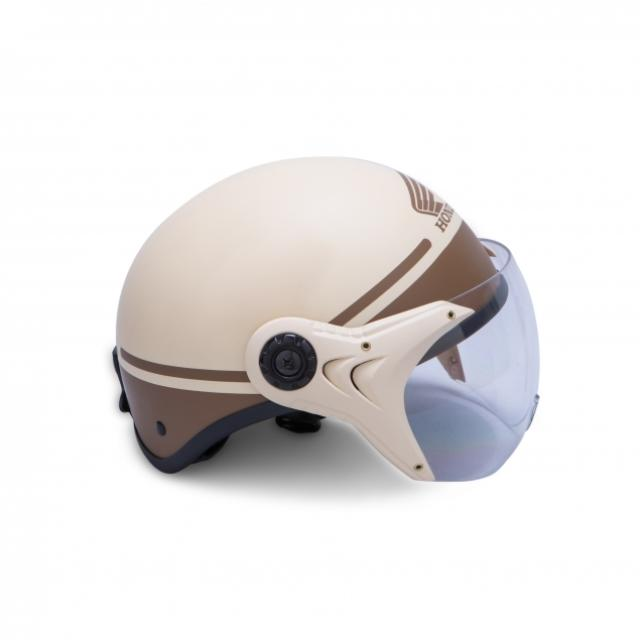Helmet: (109, 151, 543, 486)
